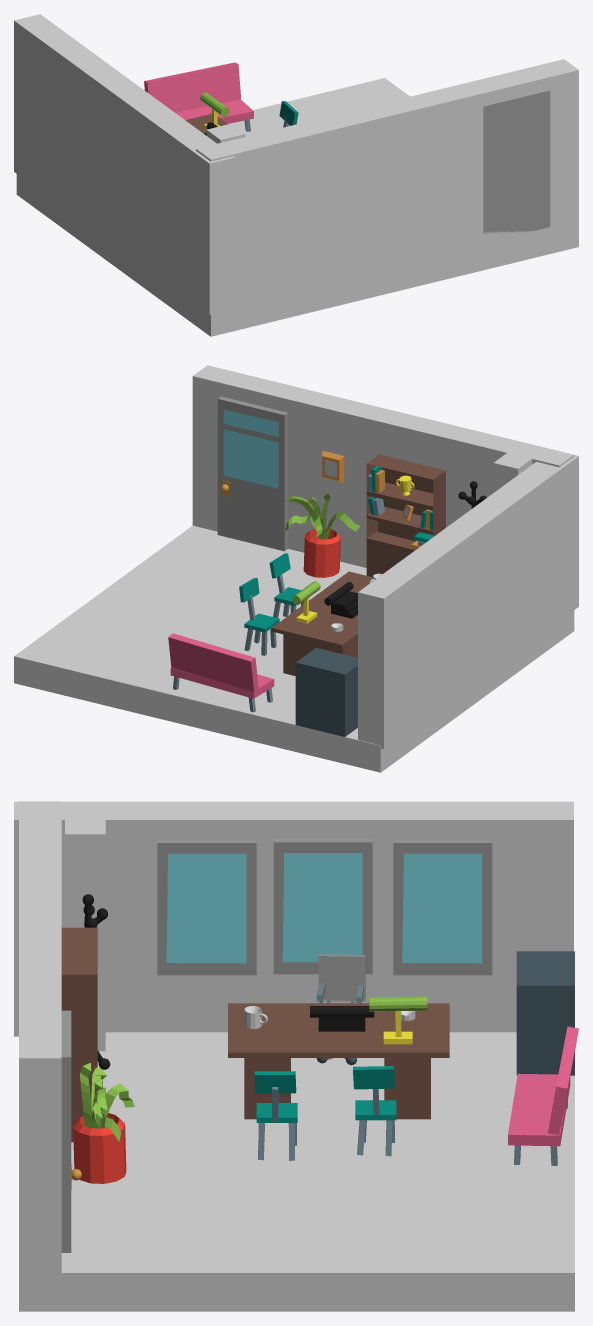
3 renders of one model, top to bottom at view 1: azimuth 30°, elevation 25°; view 2: azimuth 150°, elevation 25°; view 3: azimuth 270°, elevation 25°, orthographic. The views are drawn at different scales.
Visible parts, largest first — view 1: mesh_1988930406, mesh_146949069, mesh_314538314, mesh_1675871914, mesh_305619895, mesh_1395553564, mesh_1972536624; view 2: mesh_314538314, mesh_146949069, mesh_1988930406, mesh_1675871914, mesh_1750182724, mesh_905614646, mesh_305619895, mesh_1007001562, mesh_887667063, mesh_1316639396, mesh_1395553564, mesh_1972536624 (+1 smaller); view 3: mesh_314538314, mesh_146949069, mesh_1988930406, mesh_1633715785, mesh_124563156, mesh_152886372, mesh_1007001562, mesh_905614646, mesh_1750182724, mesh_1972536624, mesh_1395553564, mesh_887667063 (+11 smaller).
Part boxes in pixels (x1,y1,x2,y2): mesh_1988930406: (196,59,578,306); mesh_146949069: (14,14,235,314); mesh_314538314: (16,78,578,336); mesh_1675871914: (483,90,550,233); mesh_305619895: (144,62,240,112); mesh_1395553564: (175,99,253,123); mesh_1972536624: (206,123,245,143); mesh_314538314: (14,525,574,772); mesh_146949069: (358,455,578,749); mesh_1988930406: (192,365,574,567); mesh_1675871914: (217,396,287,551); mesh_1750182724: (366,454,445,577); mesh_905614646: (295,647,357,736); mesh_305619895: (168,633,258,691); mesh_1007001562: (271,571,373,648); mesh_887667063: (303,528,340,577); mesh_1316639396: (283,634,357,675); mesh_1395553564: (170,667,274,698); mesh_1972536624: (493,452,532,492); mesh_314538314: (19,1032,574,1311); mesh_146949069: (14,801,573,1036); mesh_1988930406: (19,801,61,1276); mesh_1633715785: (157,841,256,975); mesh_124563156: (393,841,492,975); mesh_152886372: (273,838,372,974); mesh_1007001562: (228,1003,449,1057); mesh_905614646: (516,951,574,1075); mesh_1750182724: (61,927,97,1142); mesh_1972536624: (65,817,105,1051); mesh_1395553564: (508,1073,570,1146); mesh_887667063: (73,1113,126,1183).
Size of the model in its own units: 105 by 48.37 by 96.86.
